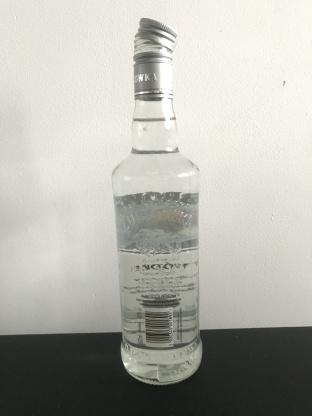nakretka: (131, 15, 180, 101)
